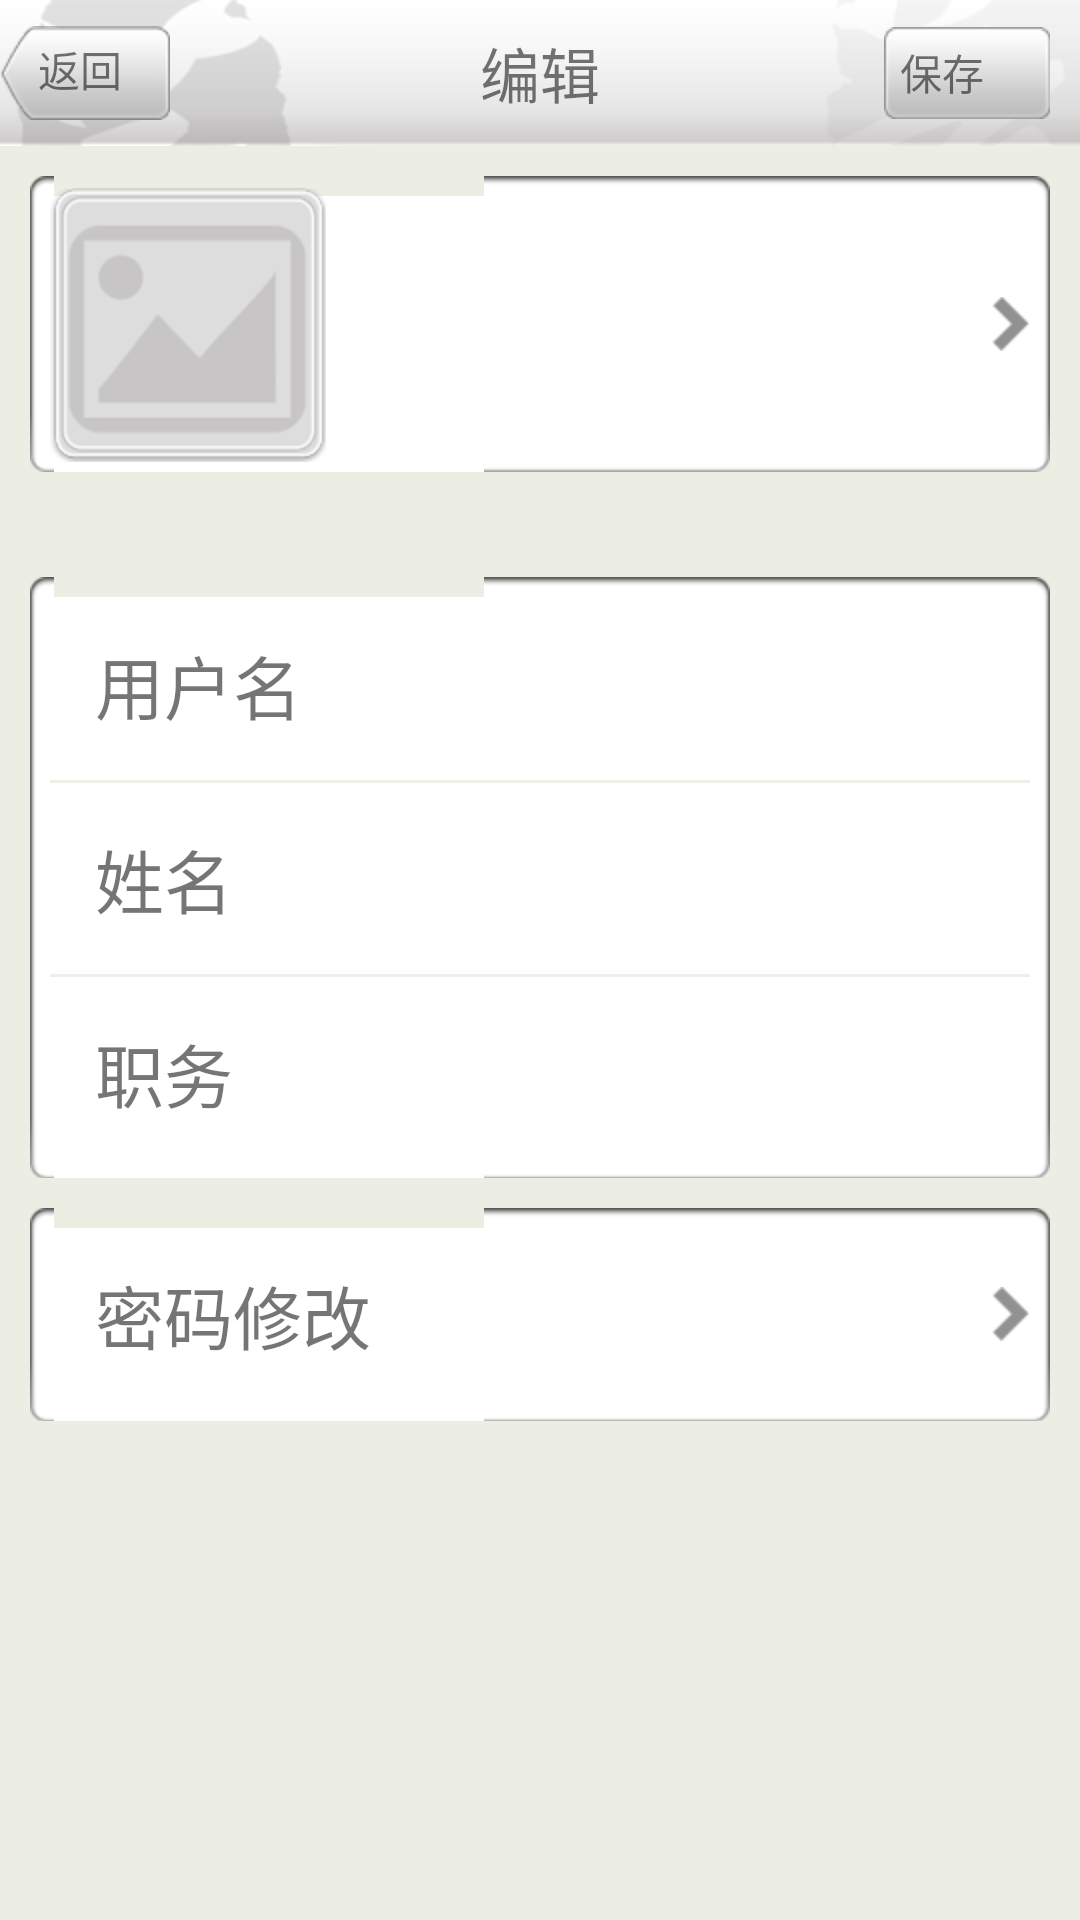

Named icons in this screenshot (1080px x 1920px) and their bounding boxes, box(x1, y1, x2, y2):
chevron: box(993, 297, 1029, 351), box(993, 1287, 1029, 1341)
no picture: box(59, 194, 319, 453)
